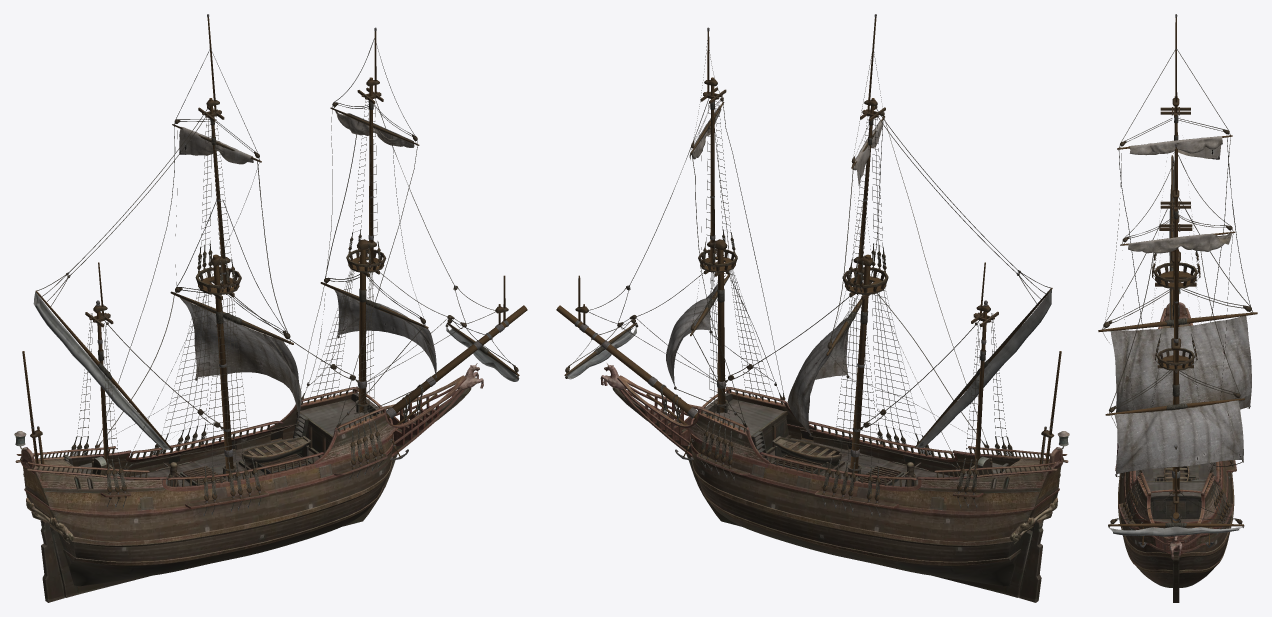
File: dutch_ship_medium.glb
3 renders of one model, left to right at view 1: azimuth 30°, elevation 25°; view 2: azimuth 150°, elevation 25°; view 3: azimuth 270°, elevation 25°, orthographic. The views are drawn at different scales.
Parts seen in each view (by area): view 1: dutch_ship_medium_hull, dutch_ship_medium_rigging, dutch_ship_medium_sails; view 2: dutch_ship_medium_hull, dutch_ship_medium_rigging, dutch_ship_medium_sails; view 3: dutch_ship_medium_sails, dutch_ship_medium_rigging, dutch_ship_medium_hull.
Part boxes in pixels (x1=…): dutch_ship_medium_hull: x1=14, y1=363, x2=483, y2=602; dutch_ship_medium_rigging: x1=22, y1=14, x2=527, y2=516; dutch_ship_medium_sails: x1=179, y1=111, x2=436, y2=419; dutch_ship_medium_hull: x1=600, y1=363, x2=1069, y2=602; dutch_ship_medium_rigging: x1=556, y1=14, x2=1061, y2=516; dutch_ship_medium_sails: x1=666, y1=104, x2=882, y2=433; dutch_ship_medium_sails: x1=1110, y1=136, x2=1251, y2=474; dutch_ship_medium_rigging: x1=1098, y1=14, x2=1257, y2=547; dutch_ship_medium_hull: x1=1115, y1=289, x2=1236, y2=602.
Bounding box in the file's own units: 24.07 × 24.66 × 6.81.
Materials: 3 (3 with a texture image).
